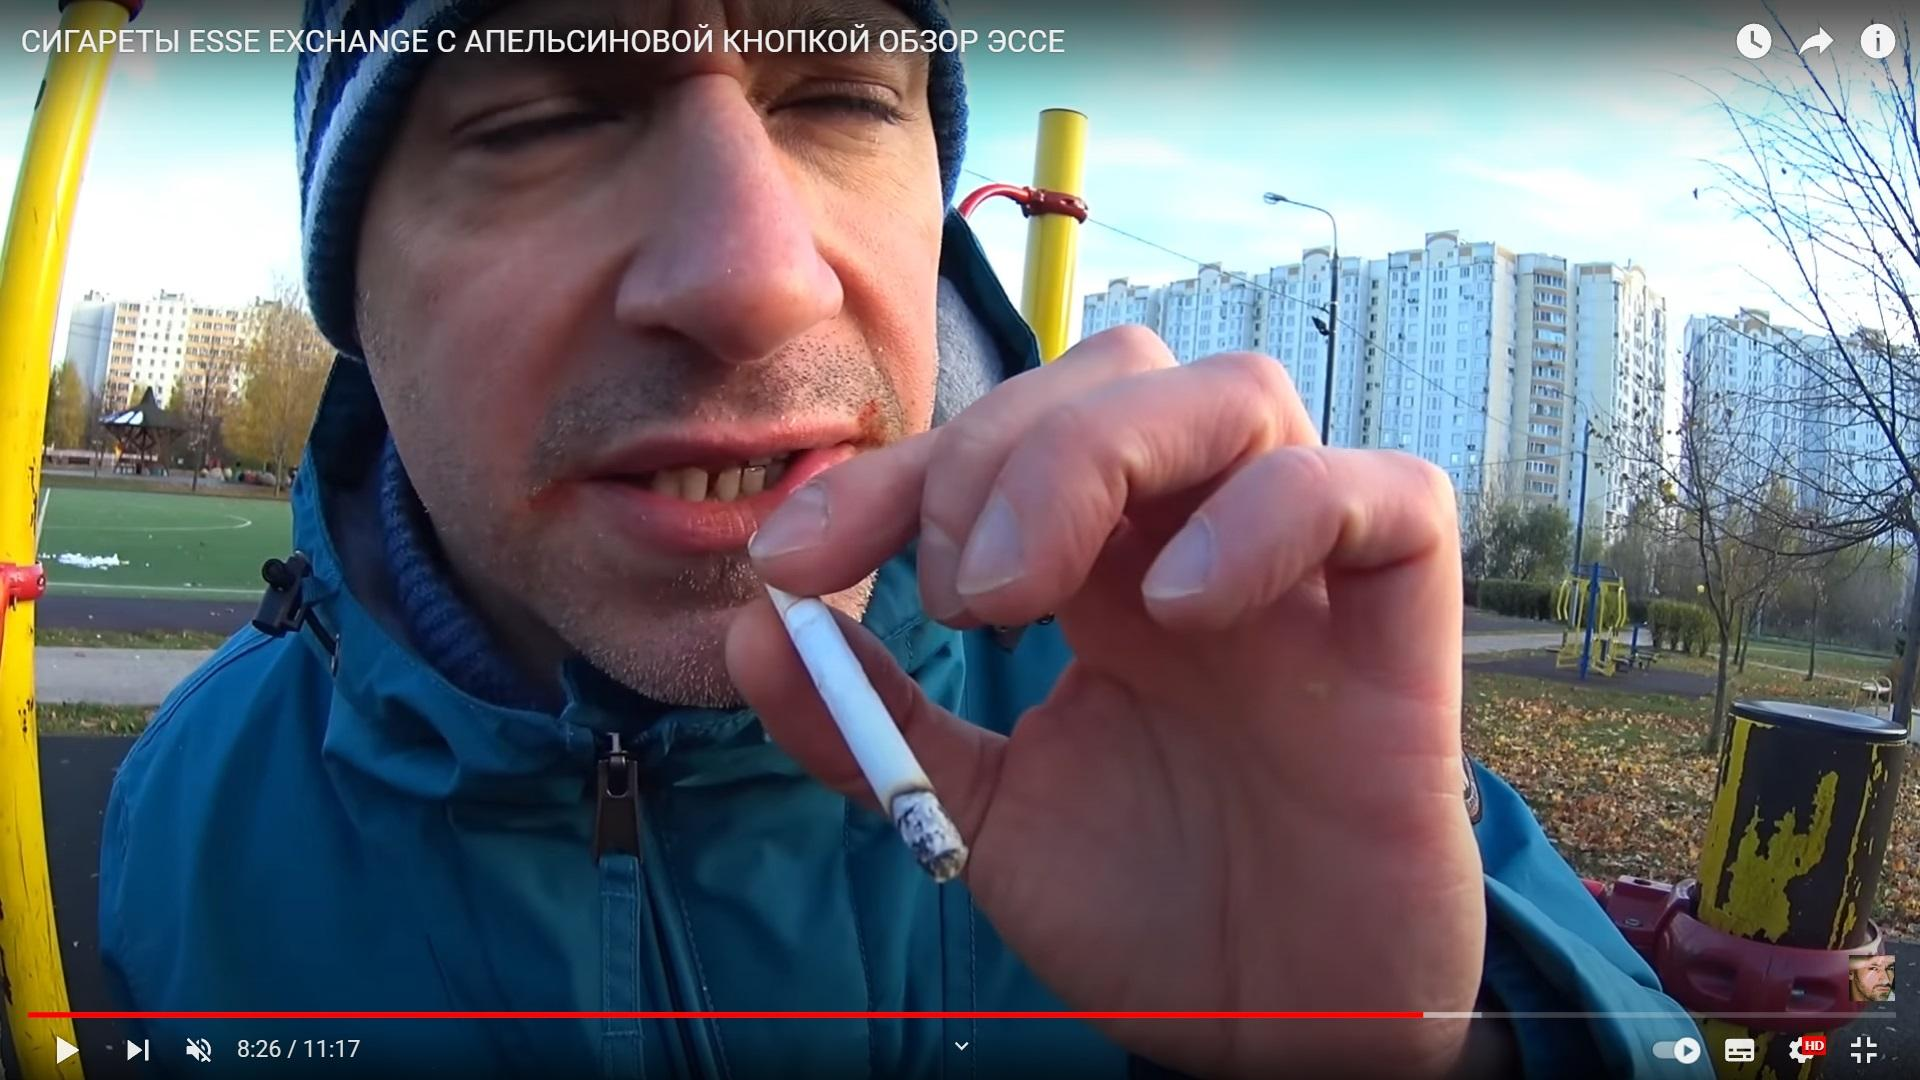cigarette: (769, 588, 968, 881)
